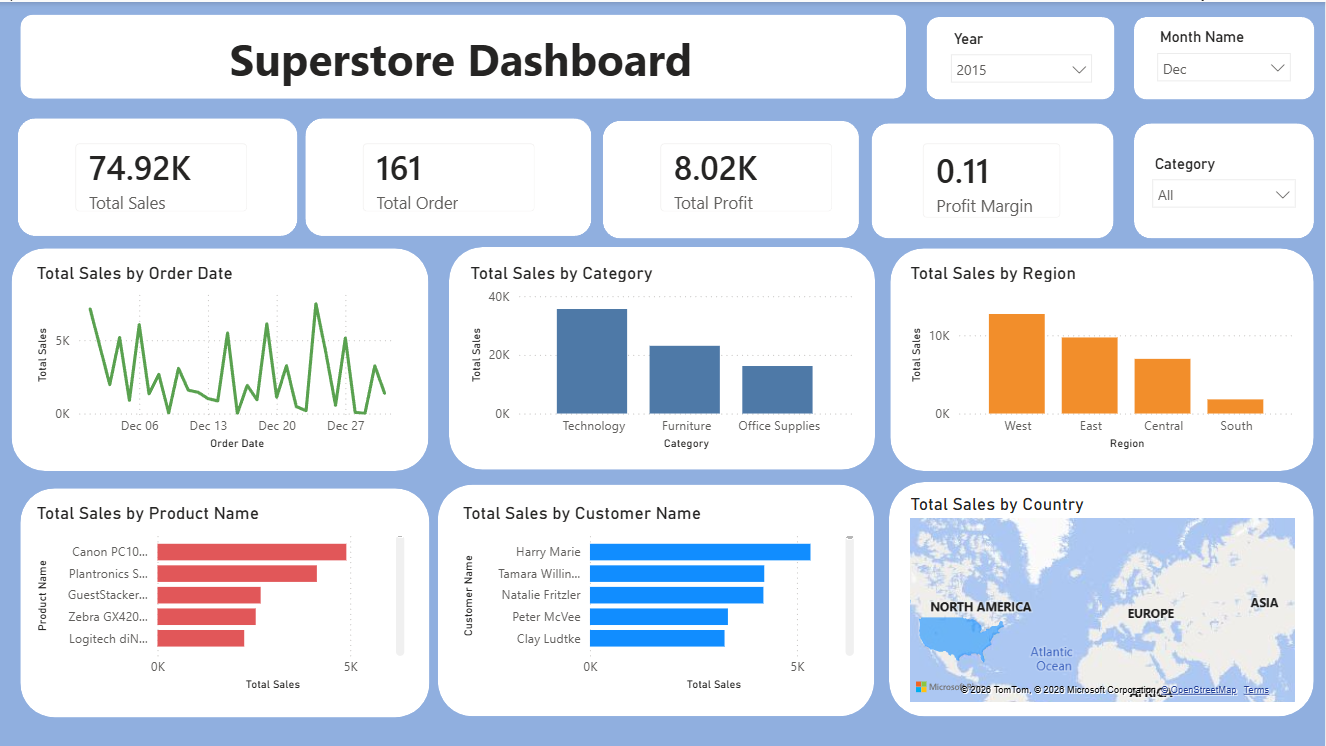

What the dashboard file says about the page in this screenshot:
{"tool":"powerbi","page":{"name":"Executive Summary","canvas":[1280,720],"ordinal":0},"visuals":[{"type":"shape","box":[1095,117.5,173.8,111.2],"z":0},{"type":"shape","box":[860,237.5,408.8,215],"z":1000},{"type":"shape","box":[433.8,236.2,411.2,215],"z":2000},{"type":"shape","box":[17.5,112.5,270,113.8],"z":3000},{"type":"shape","box":[295,112.5,276.2,113.8],"z":4000},{"type":"shape","box":[582.5,115,247.5,113.8],"z":5000},{"type":"shape","box":[842.5,117.5,233.8,111.2],"z":6000},{"type":"shape","box":[423.8,466.2,421.2,223.8],"z":7000},{"type":"shape","box":[20,468.8,395,221.2],"z":8000},{"type":"shape","box":[12.5,237.5,402.5,215],"z":9000},{"type":"clusteredColumnChart","fields":{"Y":["Sample - Superstore.Total Sales"],"Category":["Sample - Superstore.Category"]},"box":[450,251.2,380,186.2],"z":10000},{"type":"shape","box":[1095.4,13.9,174.1,79.6],"z":11000},{"type":"shape","box":[895.4,13.9,181.5,79.6],"z":12000},{"type":"cardVisual","fields":{"Data":["Sample - Superstore.Total Sales"]},"box":[56.2,120,200,100],"z":13000},{"type":"cardVisual","fields":{"Data":["Sample - Superstore.Total Profit"]},"box":[621.2,120,200,100],"z":14000},{"type":"slicer","fields":{"Values":["Date Table.Year"]},"box":[908.3,21.3,156.5,65.7],"z":15000},{"type":"slicer","fields":{"Values":["Date Table.Month Name"]},"box":[1107.4,20.4,149.1,67.6],"z":16000},{"type":"cardVisual","fields":{"Data":["Sample - Superstore.Total Order"]},"box":[333.8,120,200,100],"z":17000},{"type":"clusteredColumnChart","fields":{"Category":["Sample - Superstore.Region"],"Y":["Sample - Superstore.Total Sales"]},"box":[875,251.2,381.2,186.2],"z":18000},{"type":"cardVisual","fields":{"Data":["Sample - Superstore.Profit Margin"]},"box":[875,120,167.5,106.2],"z":19000},{"type":"clusteredBarChart","fields":{"Category":["Sample - Superstore.Product Name"],"Y":["Sample - Superstore.Total Sales"]},"box":[31.2,482.5,365,187.5],"z":20000},{"type":"lineChart","fields":{"Category":["Sample - Superstore.Order Date"],"Y":["Sample - Superstore.Total Sales"]},"box":[31.2,251.2,365,186.2],"z":21000},{"type":"shape","box":[20,12.5,855,81.2],"z":22000},{"type":"textbox","box":[31.2,20,828.8,67.5],"z":23000},{"type":"shape","box":[858.8,463.8,410,226.2],"z":24000},{"type":"clusteredBarChart","fields":{"Category":["Sample - Superstore.Customer Name"],"Y":["Sample - Superstore.Total Sales"]},"box":[442.5,482.5,387.5,187.5],"z":25000},{"type":"filledMap","fields":{"Category":["Sample - Superstore.Country"]},"box":[875,473.8,381.2,206.2],"z":26000},{"type":"slicer","fields":{"Values":["Sample - Superstore.Category"]},"box":[1102.5,142.5,158.8,60],"z":27000}]}

Visuals, with their boxes in screenshot pixels (x1, y1, x2, y2), scaled from the page's 1280x720 canvas onto the 1326x746 screenshot:
shape: [left=1134, top=122, right=1314, bottom=237]
shape: [left=891, top=246, right=1314, bottom=469]
shape: [left=449, top=245, right=875, bottom=467]
shape: [left=18, top=117, right=298, bottom=234]
shape: [left=306, top=117, right=592, bottom=234]
shape: [left=603, top=119, right=860, bottom=237]
shape: [left=873, top=122, right=1115, bottom=237]
shape: [left=439, top=483, right=875, bottom=715]
shape: [left=21, top=486, right=430, bottom=715]
shape: [left=13, top=246, right=430, bottom=469]
clusteredColumnChart - Sample - Superstore.Total Sales x Sample - Superstore.Category: [left=466, top=260, right=860, bottom=453]
shape: [left=1135, top=14, right=1315, bottom=97]
shape: [left=928, top=14, right=1116, bottom=97]
cardVisual - Sample - Superstore.Total Sales: [left=58, top=124, right=265, bottom=228]
cardVisual - Sample - Superstore.Total Profit: [left=644, top=124, right=851, bottom=228]
slicer - Date Table.Year: [left=941, top=22, right=1103, bottom=90]
slicer - Date Table.Month Name: [left=1147, top=21, right=1302, bottom=91]
cardVisual - Sample - Superstore.Total Order: [left=346, top=124, right=553, bottom=228]
clusteredColumnChart - Sample - Superstore.Region x Sample - Superstore.Total Sales: [left=906, top=260, right=1301, bottom=453]
cardVisual - Sample - Superstore.Profit Margin: [left=906, top=124, right=1080, bottom=234]
clusteredBarChart - Sample - Superstore.Product Name x Sample - Superstore.Total Sales: [left=32, top=500, right=410, bottom=694]
lineChart - Sample - Superstore.Order Date x Sample - Superstore.Total Sales: [left=32, top=260, right=410, bottom=453]
shape: [left=21, top=13, right=906, bottom=97]
textbox: [left=32, top=21, right=891, bottom=91]
shape: [left=890, top=481, right=1314, bottom=715]
clusteredBarChart - Sample - Superstore.Customer Name x Sample - Superstore.Total Sales: [left=458, top=500, right=860, bottom=694]
filledMap - Sample - Superstore.Country: [left=906, top=491, right=1301, bottom=705]
slicer - Sample - Superstore.Category: [left=1142, top=148, right=1307, bottom=210]
